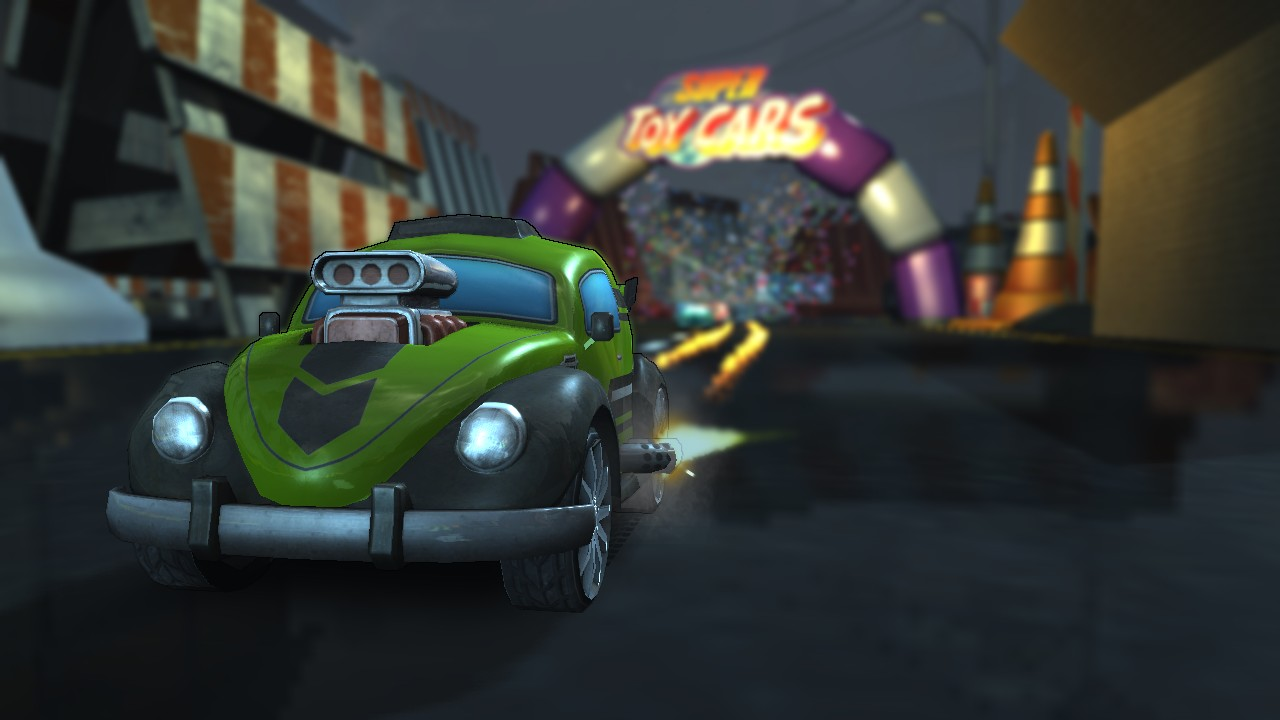other: (99, 210, 684, 613)
